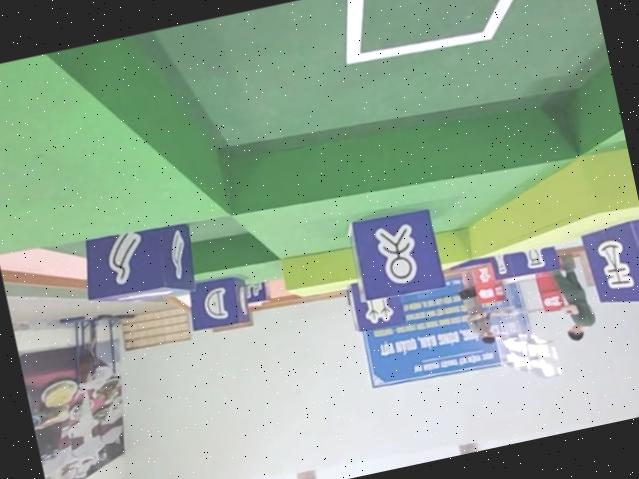R2 Real Blue: (73, 214, 199, 310), (343, 201, 446, 302), (582, 213, 639, 312), (182, 270, 251, 331), (345, 272, 405, 332), (344, 273, 404, 333), (487, 243, 559, 284)
